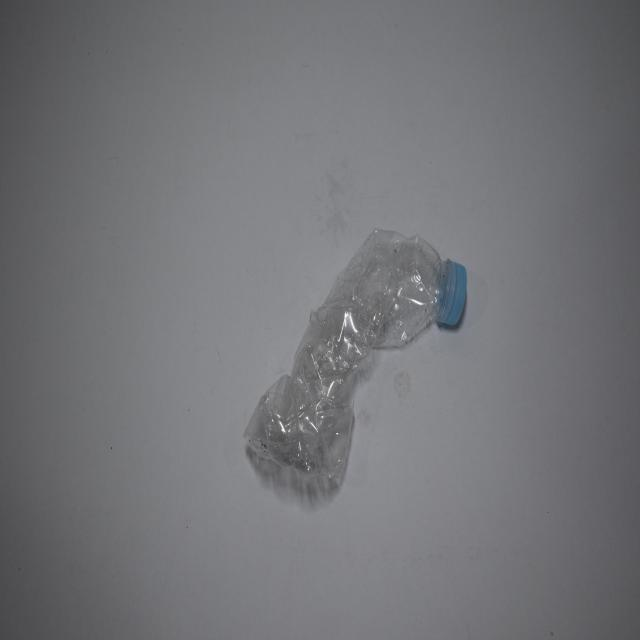bottle: (228, 144, 508, 544)
